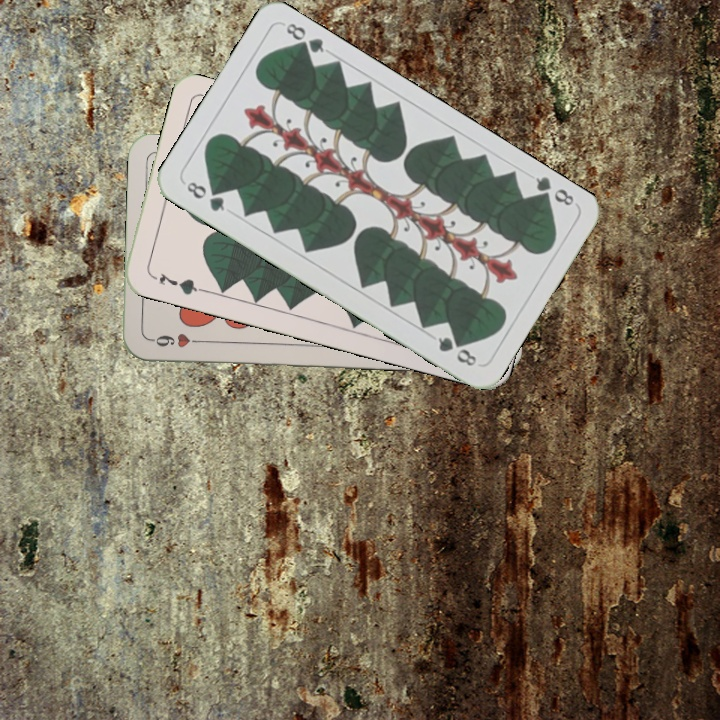G7: (155, 269, 206, 298)
G8: (530, 172, 577, 209), (182, 177, 228, 214)
H9: (146, 329, 206, 350)
